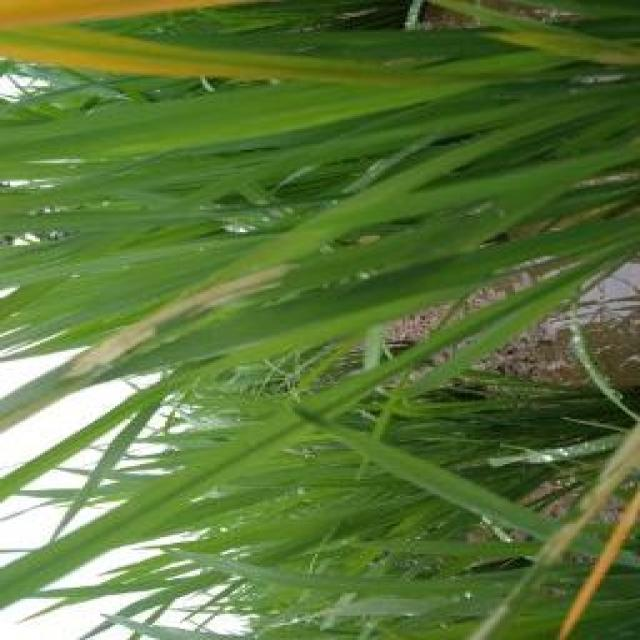Tungro: (62, 258, 277, 382), (0, 0, 256, 97), (539, 435, 640, 640)
